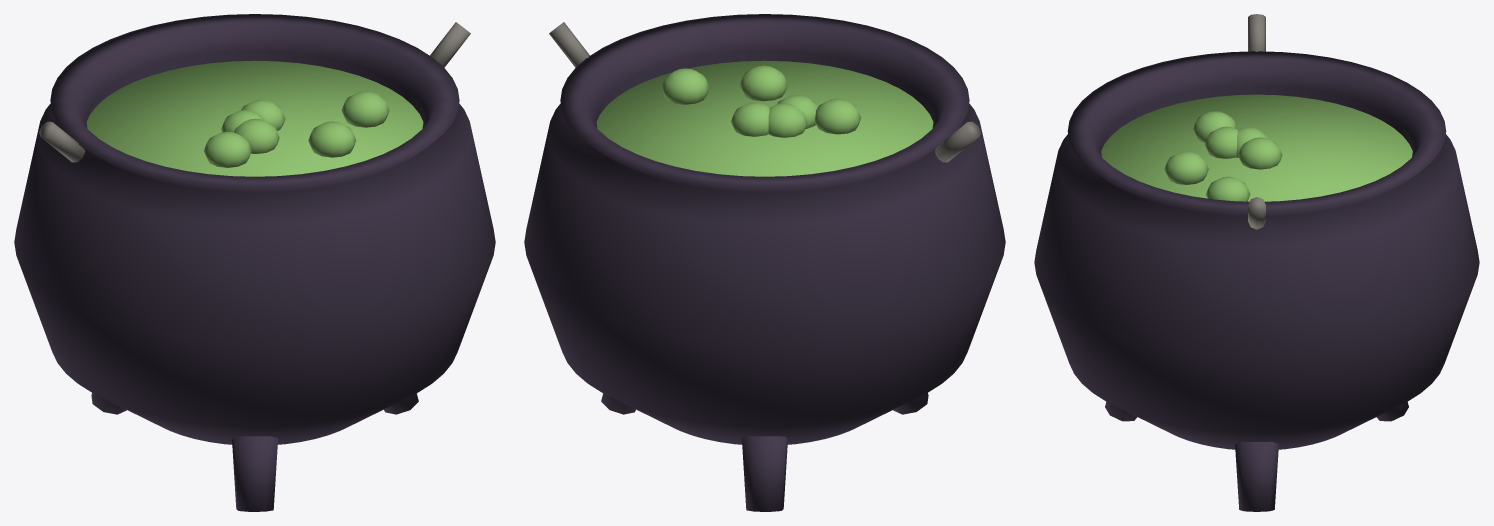
File: cauldron.glb
3 renders of one model, left to right at view 1: azimuth 30°, elevation 25°; view 2: azimuth 150°, elevation 25°; view 3: azimuth 270°, elevation 25°, orthographic. The views are drawn at different scales.
Parts seen in each view (by area): view 1: LH_cauldron; view 2: LH_cauldron; view 3: LH_cauldron.
Boxes of the visible parts, x1=… form: LH_cauldron: x1=14, y1=14, x2=495, y2=511; LH_cauldron: x1=524, y1=14, x2=1005, y2=511; LH_cauldron: x1=1034, y1=14, x2=1479, y2=511.
Size of the model in its own units: 0.4113 by 0.3407 by 0.4.
